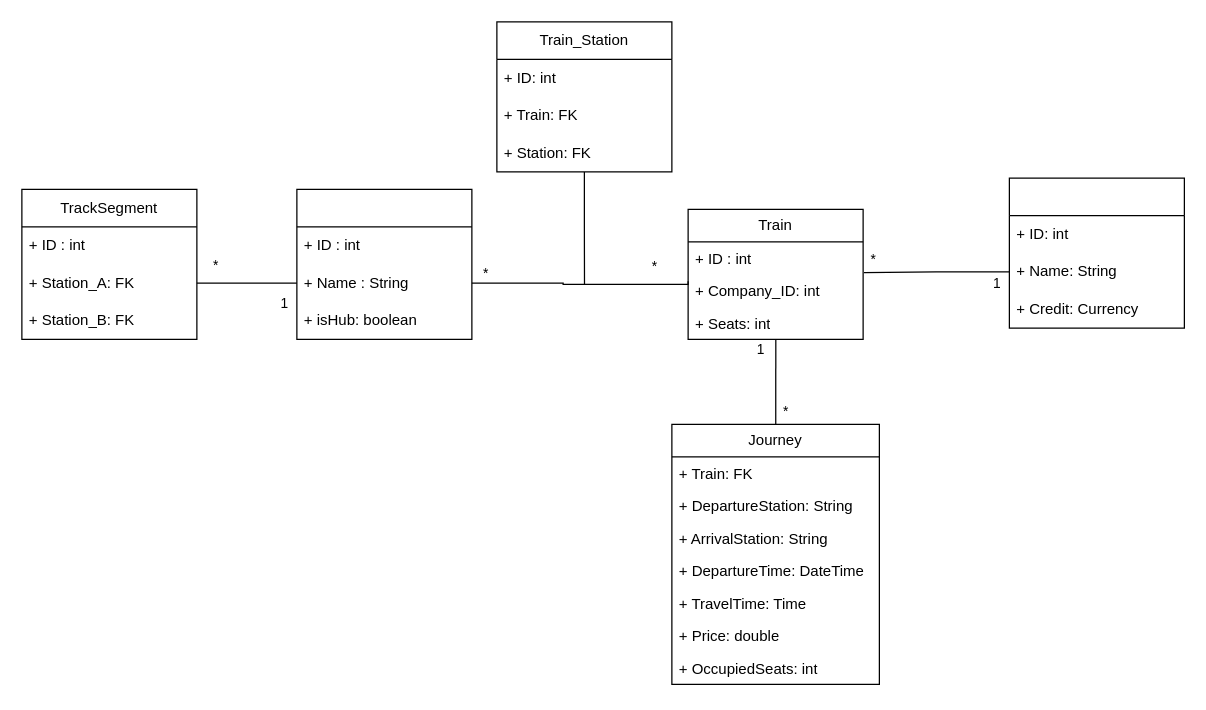
The diagram is 1206 pixels wide and 710 high, and some of its shapes have lost their labels. The box of each missing label's shape, as (x1, y1, x2, y2) in pixels:
Company: (1008, 177, 1184, 328)
Station: (296, 188, 472, 339)
